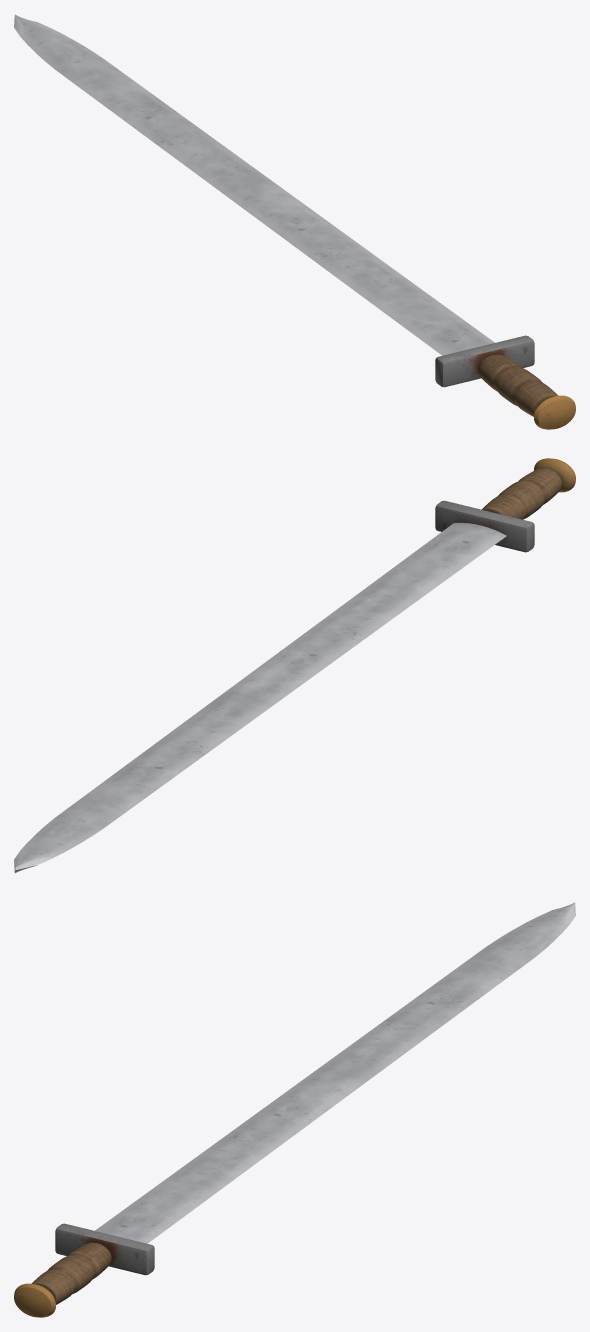
The model's file is frankish_spatha.glb.
The picture shows the model from 3 angles, top to bottom: view 1: azimuth 30°, elevation 25°; view 2: azimuth 150°, elevation 25°; view 3: azimuth 330°, elevation 25°; orthographic projection.
Parts seen in each view (by area): view 1: frankish_spatha; view 2: frankish_spatha; view 3: frankish_spatha.
Boxes of the visible parts, x1=… form: frankish_spatha: x1=14, y1=14, x2=575, y2=429; frankish_spatha: x1=14, y1=458, x2=575, y2=873; frankish_spatha: x1=14, y1=902, x2=575, y2=1317.
Size of the model in its own units: 0.088 by 0.0292 by 0.8869.
Materials: 1 (1 with a texture image).
